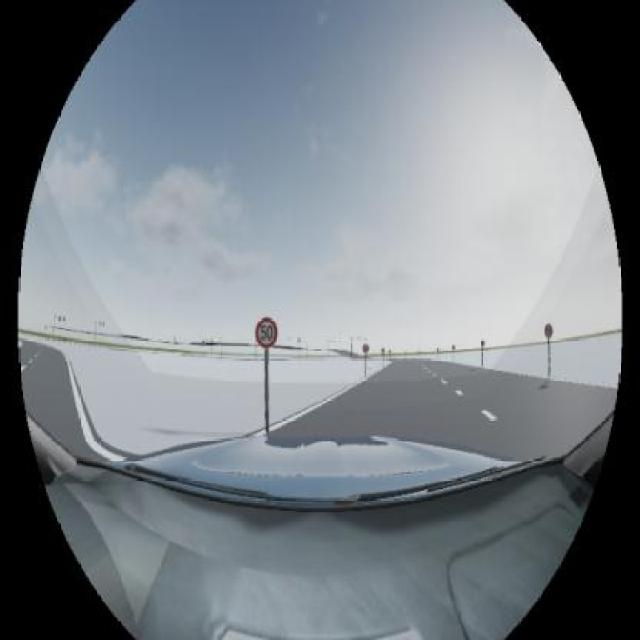forb_speed_over_50: (255, 315, 279, 348)
